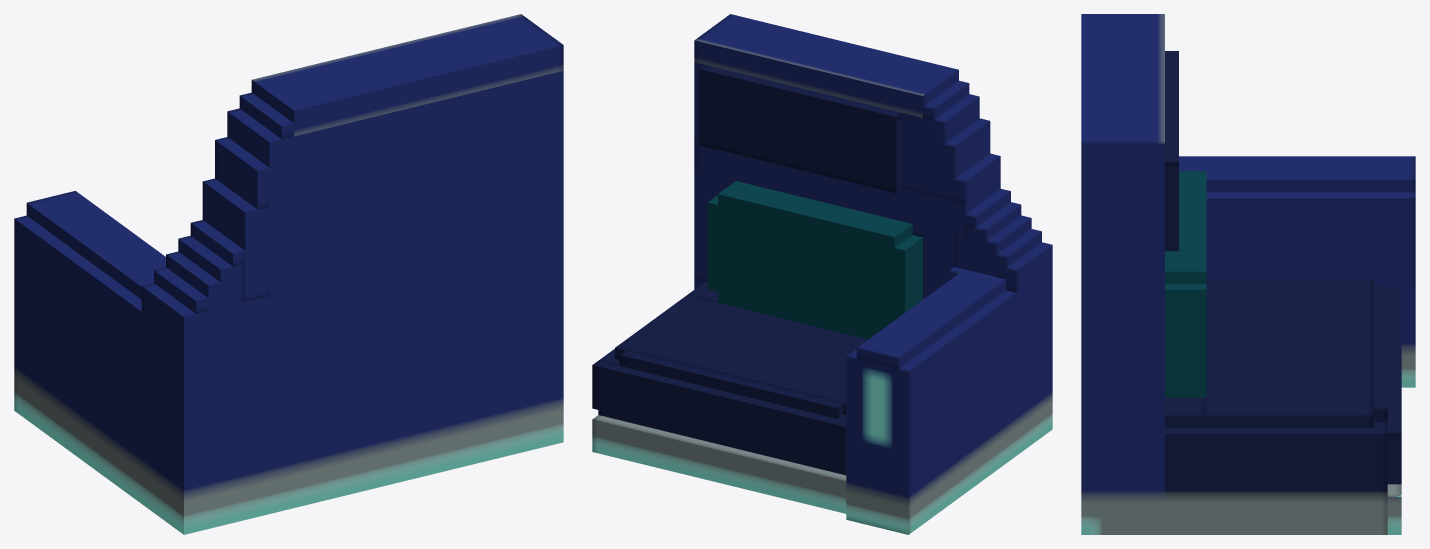
The model's file is sofa_1.dae.
3 renders of one model, left to right at view 1: azimuth 30°, elevation 25°; view 2: azimuth 150°, elevation 25°; view 3: azimuth 270°, elevation 25°, orthographic. The views are drawn at different scales.
Parts seen in each view (by area): view 1: Content; view 2: Content; view 3: Content.
Boxes of the visible parts, bbox=[...] form: Content: bbox=[14, 14, 563, 534]; Content: bbox=[592, 14, 1052, 534]; Content: bbox=[1081, 14, 1415, 534].
Size of the model in its own units: 31 by 31 by 24.
1 material, 1 textured.
